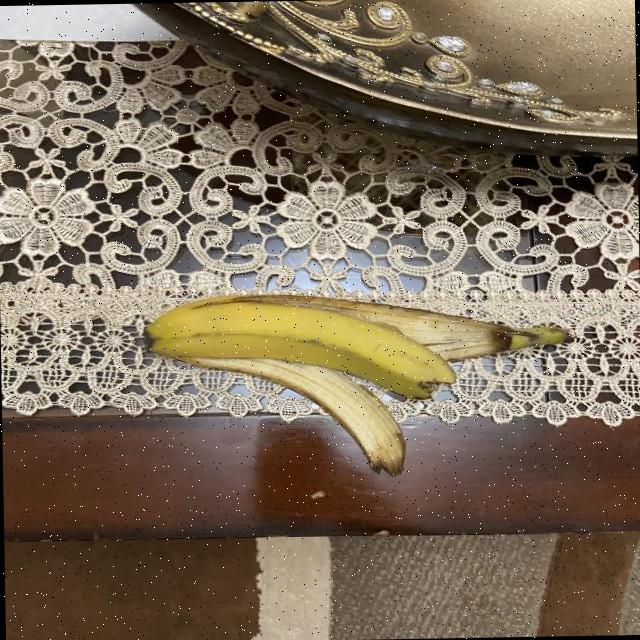banana-peel: (142, 286, 572, 480), (142, 291, 458, 405), (164, 348, 406, 479)
